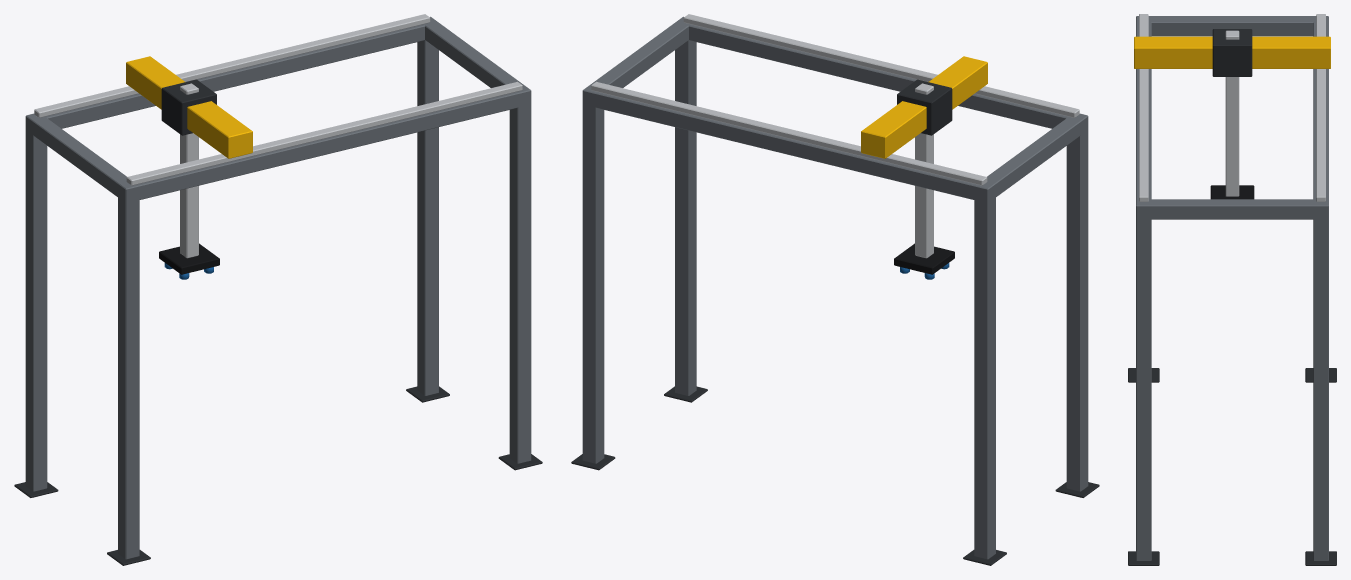
Rendered from two_axis_pick_and_place.glb.
3 renders of one model, left to right at view 1: azimuth 30°, elevation 25°; view 2: azimuth 150°, elevation 25°; view 3: azimuth 270°, elevation 25°, orthographic. The views are drawn at different scales.
Parts seen in each view (by area): view 1: Gantry_Static, Beam, Picker, Carriage; view 2: Gantry_Static, Beam, Picker, Carriage; view 3: Gantry_Static, Beam, Picker, Carriage.
Part boxes in pixels (x1,y1,x2,y2): Gantry_Static: (14, 14, 542, 565); Beam: (126, 56, 252, 158); Picker: (159, 83, 219, 279); Carriage: (161, 79, 216, 135); Gantry_Static: (571, 14, 1099, 565); Beam: (861, 56, 987, 158); Picker: (894, 83, 954, 279); Carriage: (897, 79, 952, 135); Gantry_Static: (1128, 14, 1336, 565); Beam: (1134, 36, 1330, 68); Picker: (1210, 30, 1254, 199); Carriage: (1212, 29, 1252, 76).
Size of the model in its own units: 2.36 by 2.2 by 1.06.
